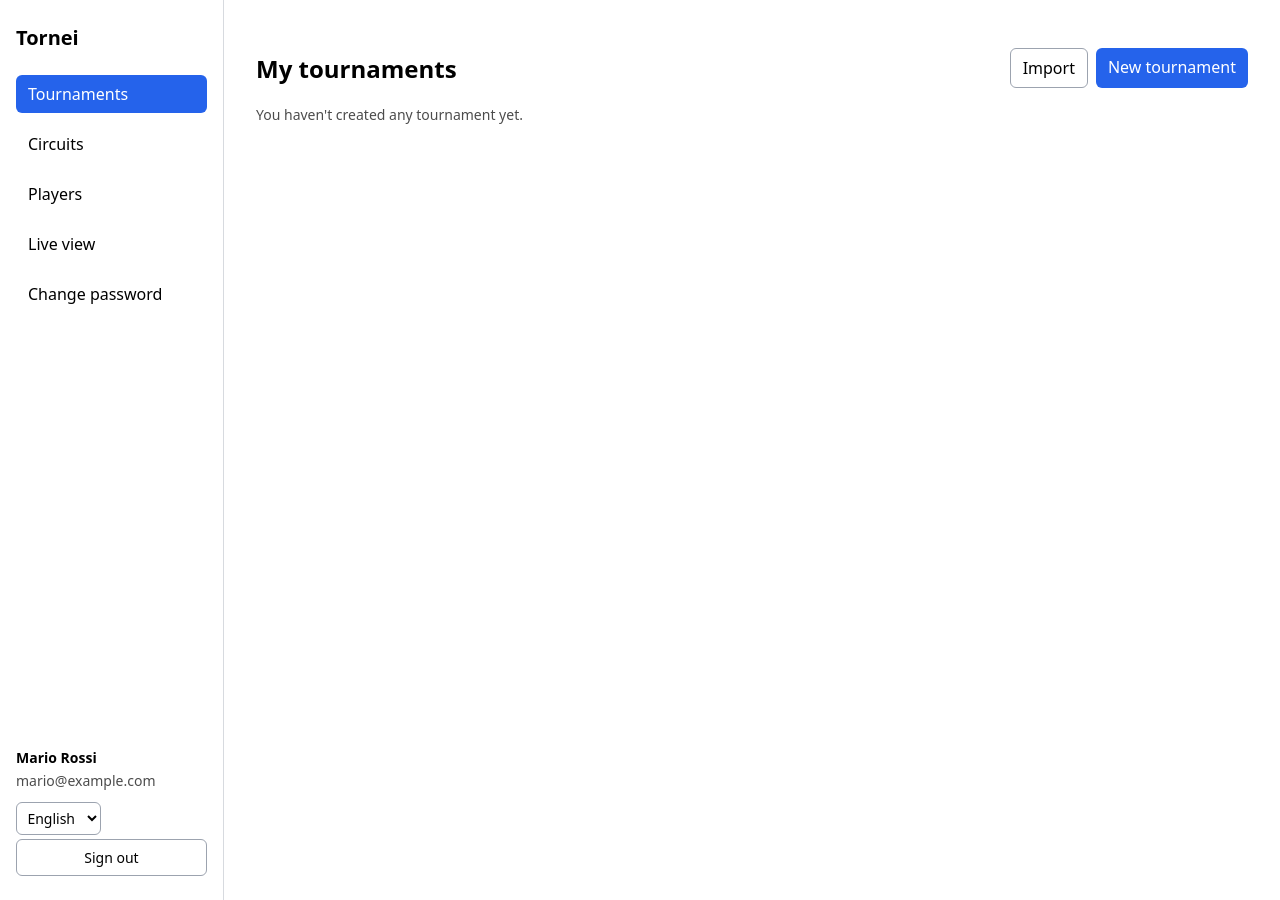
Test case: App › signed in › switches the whole interface between English and Italian, remembering the choice
Check: the text "You haven't created any tournament yet." is shown, box [256,105,523,124]
Select "Italiano" in the dropdown named "Language" at {"x": 58, "y": 819}, box [16,802,101,835]
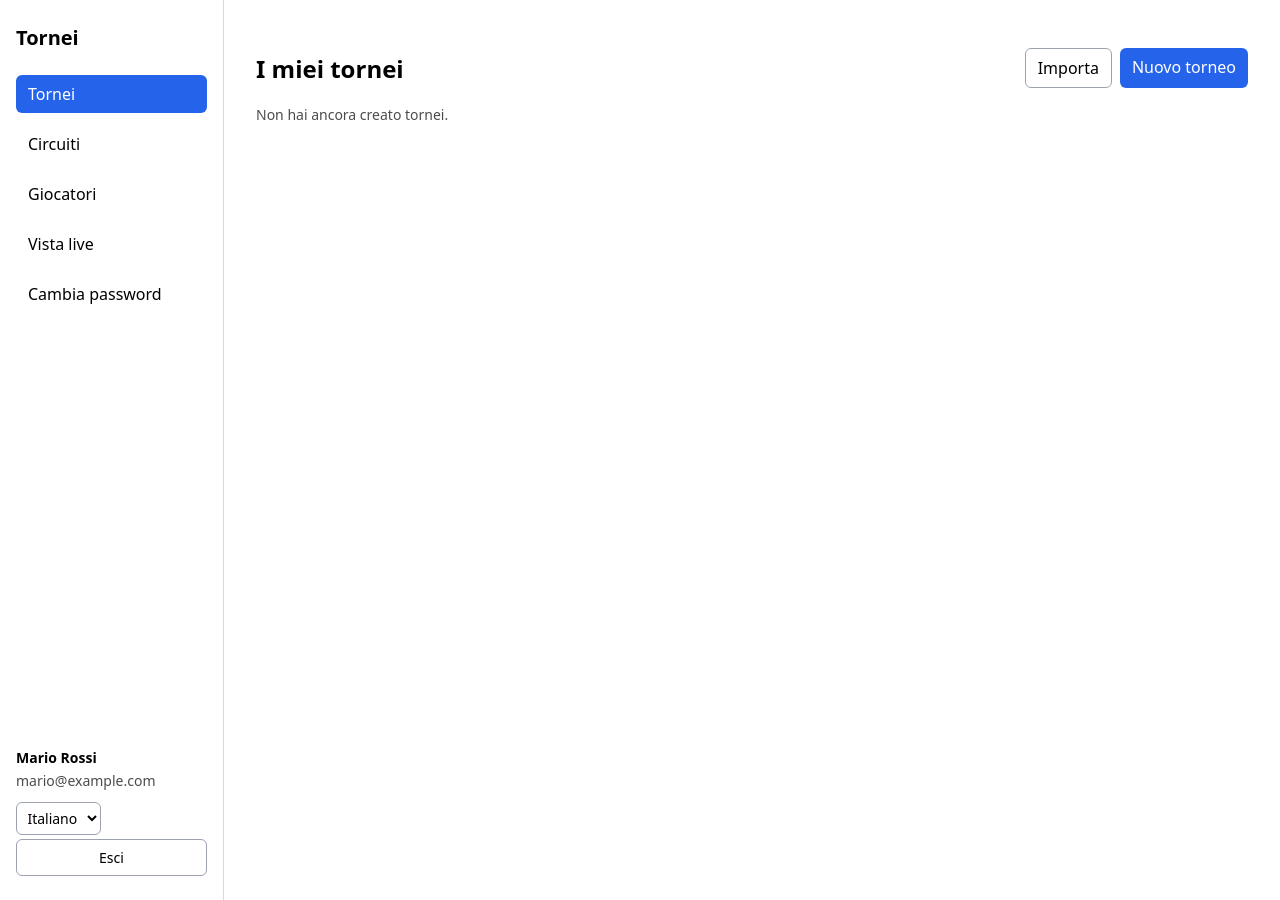
Check: the heading "I miei tornei" is shown, box [256,52,404,85]
Check: the link "Cambia password" is shown, box [28,283,162,305]
Check: the button "Esci" is shown, box [16,839,207,876]
Select "English" in the dropdown named "Lingua" at {"x": 58, "y": 819}, box [16,802,101,835]
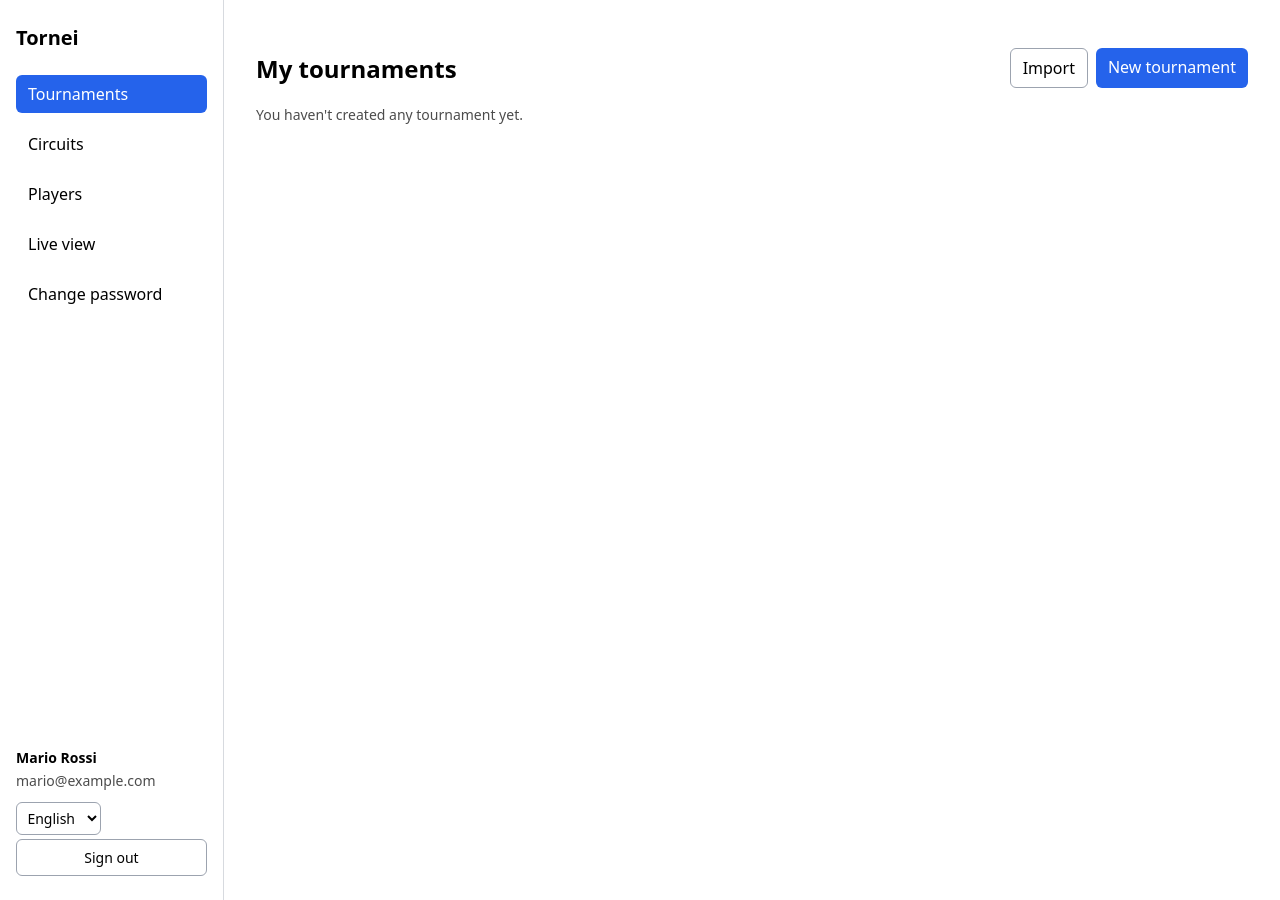
Check: the heading "My tournaments" is shown, box [256,52,457,85]
